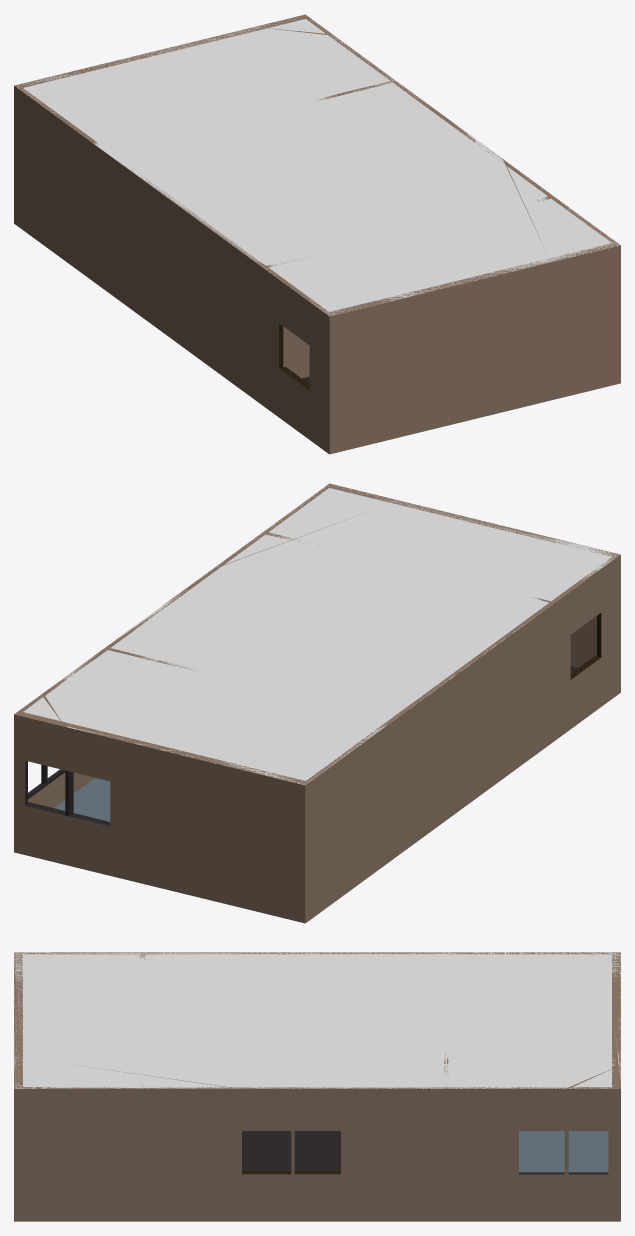
The model's file is Room-Blender colored.fbx.
3 views of the same model, one above another, from view 1: azimuth 30°, elevation 25°; view 2: azimuth 150°, elevation 25°; view 3: azimuth 270°, elevation 25° (orthographic). The views are drawn at different scales.
Parts seen in each view (by area): view 1: house, roof from inside; view 2: house, roof from inside, kutchen floor, kitchen windowframe; view 3: roof from inside, house, livingroom floor, kutchen floor, livingroom windowframe.001.
Boxes of the visible parts, bbox=[...] form: house: bbox=[14, 14, 620, 454]; roof from inside: bbox=[14, 18, 619, 315]; house: bbox=[14, 483, 620, 923]; roof from inside: bbox=[23, 485, 619, 784]; kutchen floor: bbox=[54, 778, 110, 821]; kitchen windowframe: bbox=[25, 761, 110, 826]; roof from inside: bbox=[14, 952, 620, 1088]; house: bbox=[14, 952, 620, 1221]; livingroom floor: bbox=[242, 1131, 340, 1170]; kutchen floor: bbox=[519, 1131, 608, 1172]; livingroom windowframe.001: bbox=[242, 1171, 340, 1174].
Size of what is drawn, in the model's own units: 8 by 3.62 by 15.
